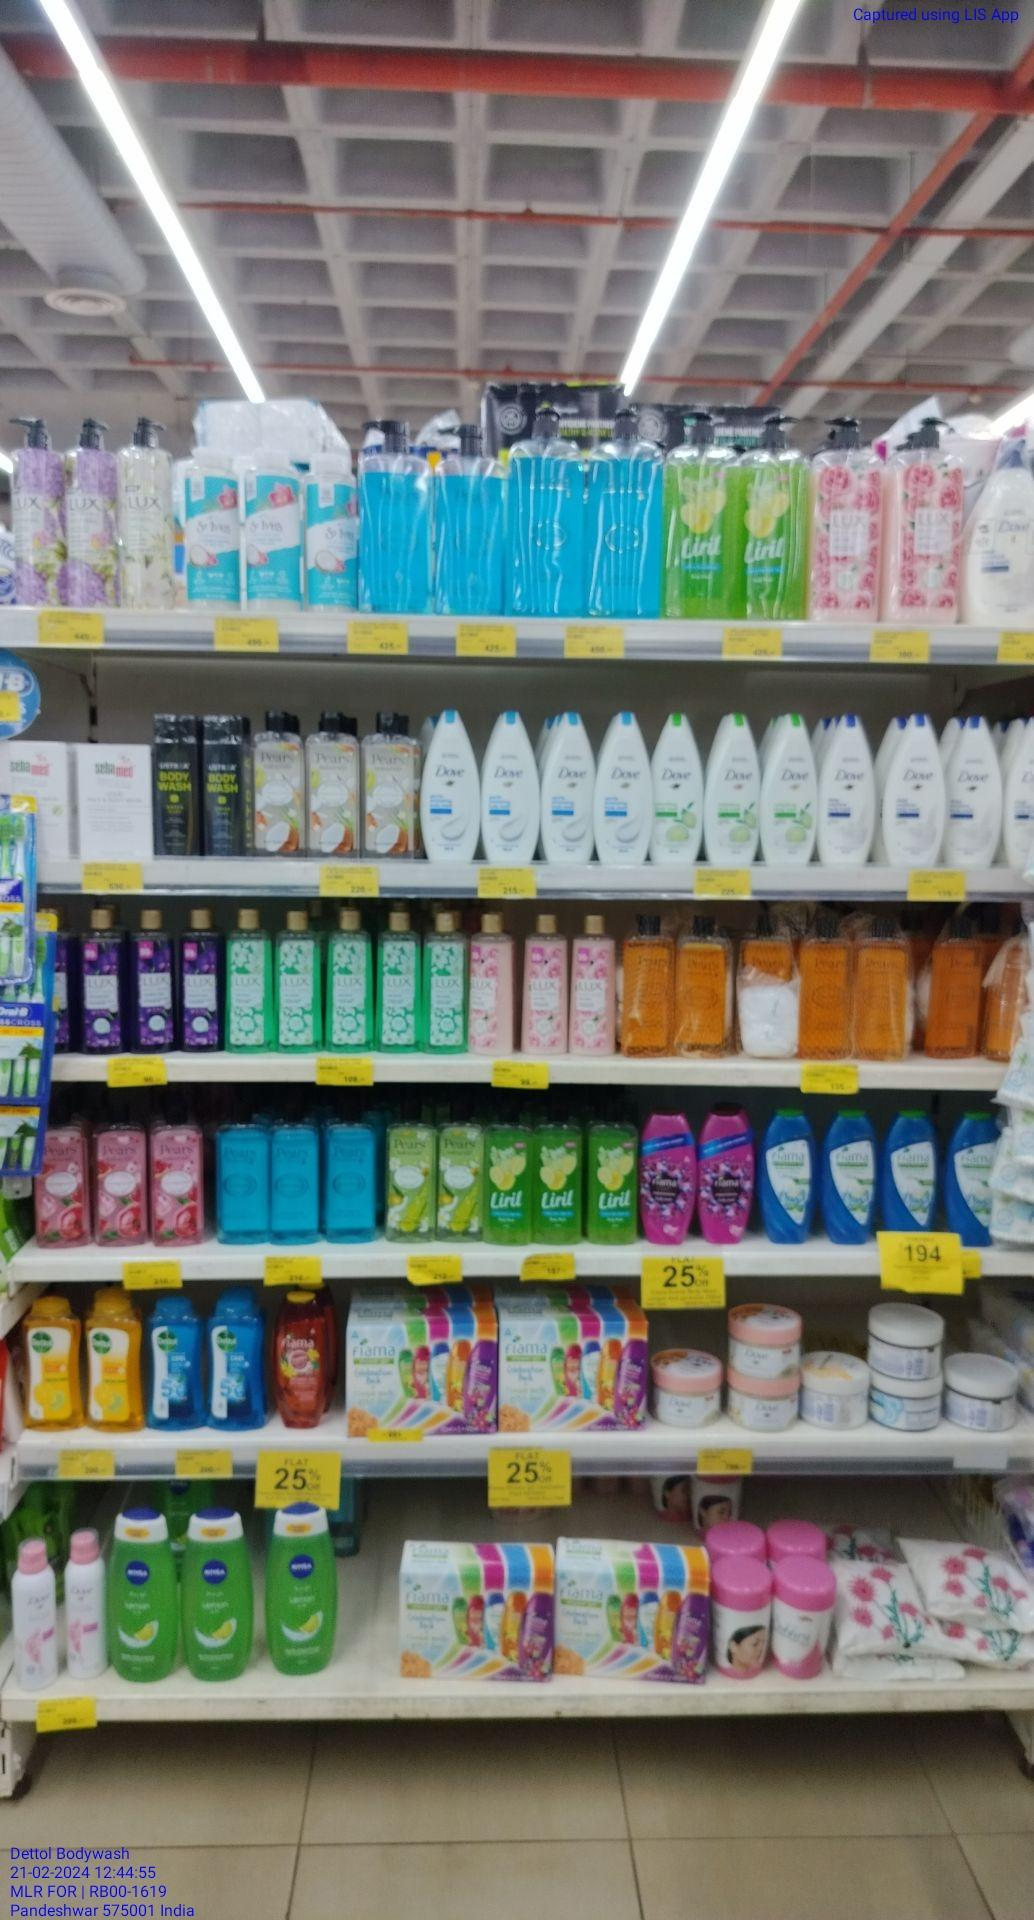Dettol_Bodywash_Cool: (208, 1285, 266, 1434), (148, 1291, 206, 1434)
Dettol_Bodywash_Refresh: (81, 1286, 146, 1436), (17, 1292, 84, 1434)
Dove_Deep_Moisture_Body_Wash_250ML: (815, 708, 877, 867), (882, 712, 946, 867), (946, 712, 1002, 870)
Dove_Gentle_Exfoliating_Body_Wash_250ML: (480, 708, 542, 863), (419, 707, 480, 863), (595, 708, 653, 866), (540, 708, 596, 865)
Dove_Refreshing_Body_Wash_250ML: (759, 708, 816, 867), (703, 708, 759, 867), (653, 708, 704, 867)
Liril_Lime_and_Tea_Tree_Oil_Body_Wash_250ML: (530, 1105, 583, 1246), (584, 1105, 638, 1246), (483, 1105, 530, 1246)
Lux_Black_Orchid_Scent_and_Juniper_Oil_Body_Wash_245ML: (127, 905, 177, 1054), (76, 907, 126, 1054), (178, 905, 223, 1053)
Lux_Body_Wash_Skin_Detox_Freesia_Scent_and_Alove_Vera_245ML: (322, 907, 374, 1055), (273, 907, 322, 1054), (421, 907, 470, 1057), (224, 905, 273, 1053), (374, 905, 421, 1053)
Nivea_Shower_Gel_Lemon_and_Oil_250ML: (180, 1505, 256, 1683), (104, 1505, 180, 1686), (264, 1500, 339, 1679)
Pears_Naturale_Aloe_Vera_Body_Wash_250ML: (381, 1103, 437, 1244), (437, 1104, 484, 1244)
Pears_Pure_Glycerin_and_Mint_Extracts_Body_Wash_250ML: (322, 1104, 381, 1246), (211, 1104, 270, 1245), (269, 1104, 322, 1246)
